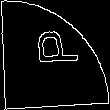P_W: (29, 35, 81, 75)
